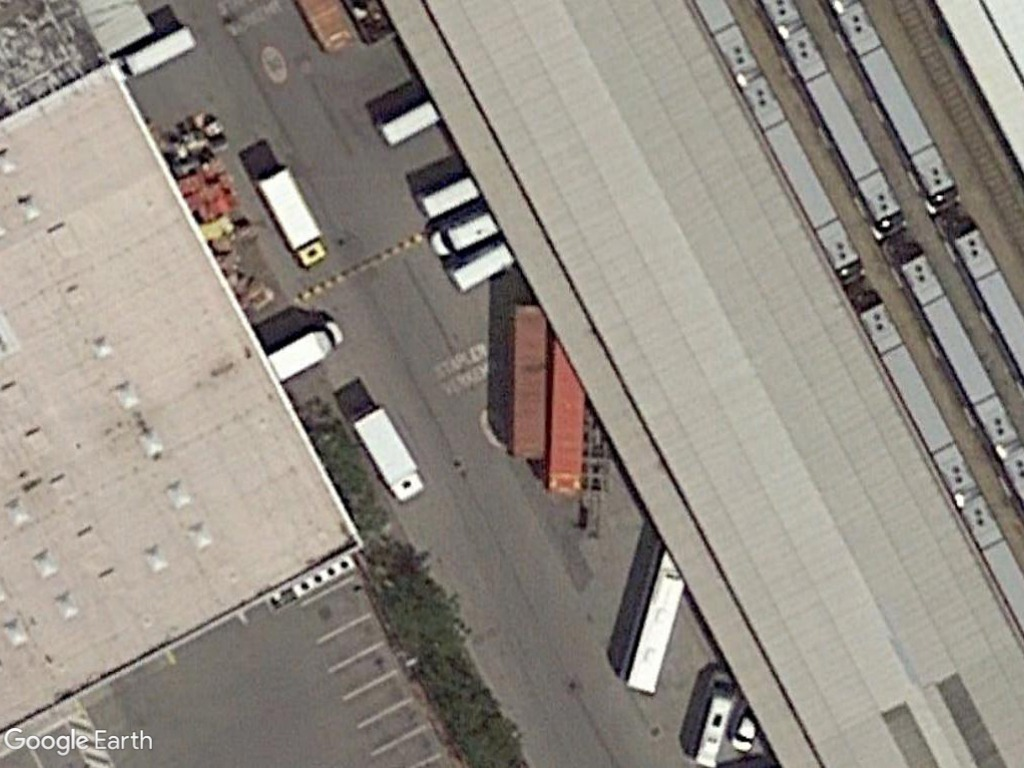truck: (253, 162, 330, 273), (346, 401, 427, 505)
van: (262, 312, 348, 384), (684, 668, 745, 768), (424, 207, 500, 257)
